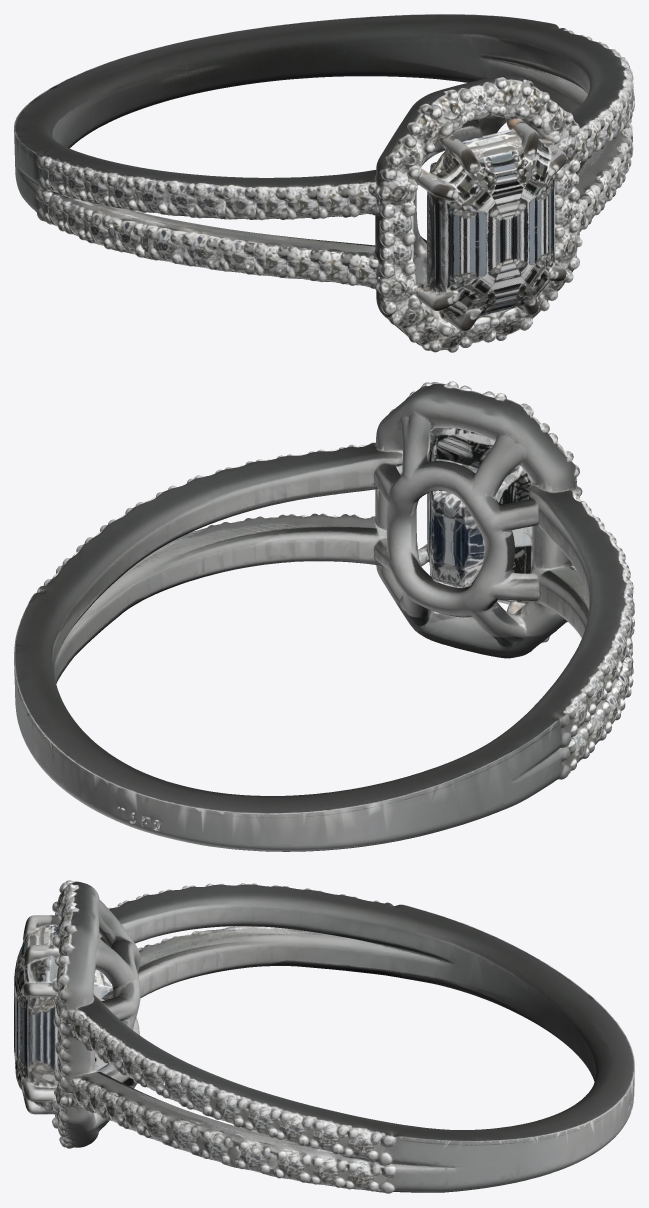
File: emerald-halo-stud-earrings-opt.glb
3 renders of one model, top to bottom at view 1: azimuth 30°, elevation 25°; view 2: azimuth 150°, elevation 25°; view 3: azimuth 270°, elevation 25°, orthographic. The views are drawn at different scales.
Visible parts, largest first — view 1: mesh_node; view 2: mesh_node; view 3: mesh_node.
Boxes of the visible parts, box(x1,y1,x2,y2) form: mesh_node: box(14, 14, 634, 352); mesh_node: box(14, 381, 634, 851); mesh_node: box(14, 880, 634, 1193).
Size of the model in its own units: 1.71 by 0.8054 by 1.9.
1 material, 1 textured.
